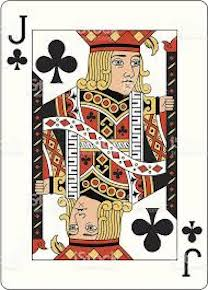JackOfClubs: (1, 1, 207, 290)
